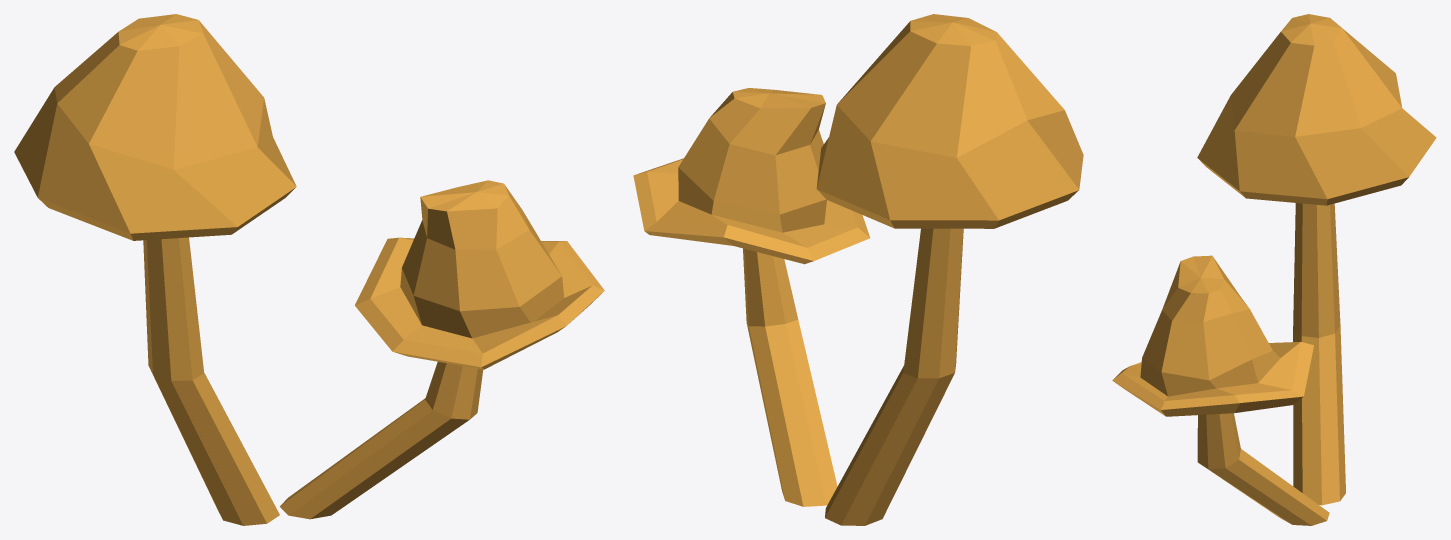
The model's file is mushroom-magical-cluster-b.fbx.
The picture shows the model from 3 angles, left to right: view 1: azimuth 30°, elevation 25°; view 2: azimuth 150°, elevation 25°; view 3: azimuth 270°, elevation 25°; orthographic projection. The views are drawn at different scales.
Parts seen in each view (by area): view 1: mushroom-magical-cluster-b; view 2: mushroom-magical-cluster-b; view 3: mushroom-magical-cluster-b.
Part boxes in pixels (x1,y1,x2,y2): mushroom-magical-cluster-b: (14, 14, 604, 525); mushroom-magical-cluster-b: (633, 14, 1083, 525); mushroom-magical-cluster-b: (1112, 14, 1436, 525).
Size of the model in its own units: 0.2582 by 0.2593 by 0.1765.
